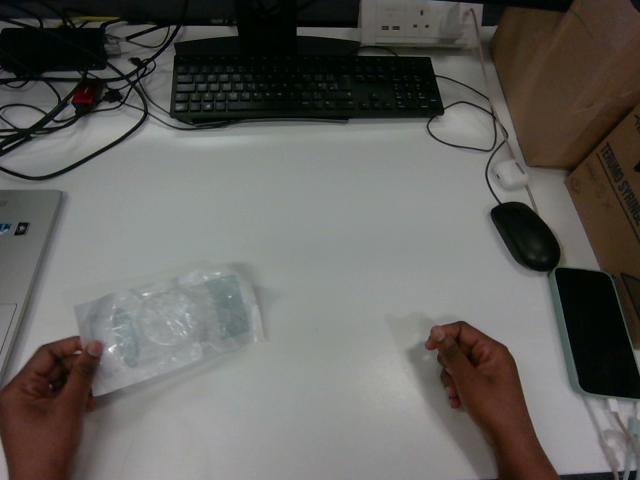gallipot: (74, 266, 262, 394)
